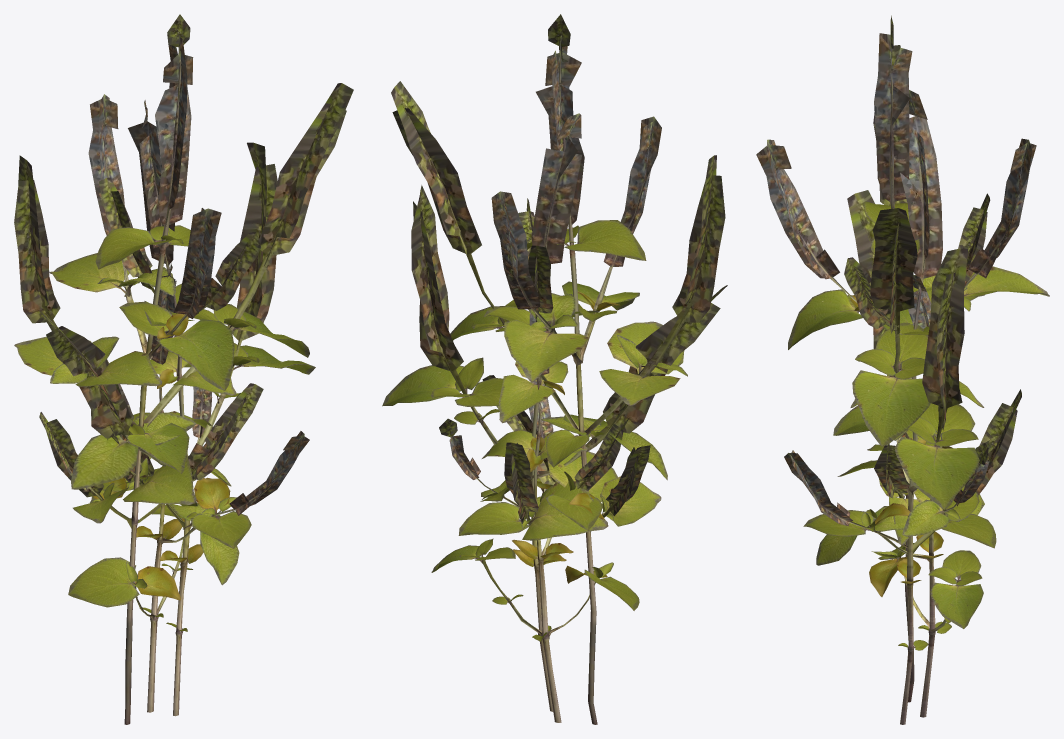
The model's file is shrub.glb.
3 views of the same model, side by side, from view 1: azimuth 30°, elevation 25°; view 2: azimuth 150°, elevation 25°; view 3: azimuth 270°, elevation 25° (orthographic). The views are drawn at different scales.
Parts seen in each view (by area): view 1: shrub_v0_lod0, shrub_v1_lod0, shrub_v2_lod0; view 2: shrub_v0_lod0, shrub_v1_lod0, shrub_v2_lod0; view 3: shrub_v0_lod0, shrub_v1_lod0, shrub_v2_lod0.
Part boxes in pixels (box(x1,y1,x2,y2)): shrub_v0_lod0: box(14, 14, 353, 724); shrub_v1_lod0: box(39, 100, 315, 716); shrub_v2_lod0: box(68, 263, 239, 712); shrub_v0_lod0: box(391, 14, 725, 724); shrub_v1_lod0: box(382, 113, 727, 711); shrub_v2_lod0: box(431, 312, 639, 722); shrub_v0_lod0: box(756, 15, 1049, 702); shrub_v1_lod0: box(784, 90, 1021, 724); shrub_v2_lod0: box(816, 274, 989, 717).
Size of what is drawn, in the model's own units: 0.2006 by 0.4028 by 0.1512.
1 material, 1 textured.
